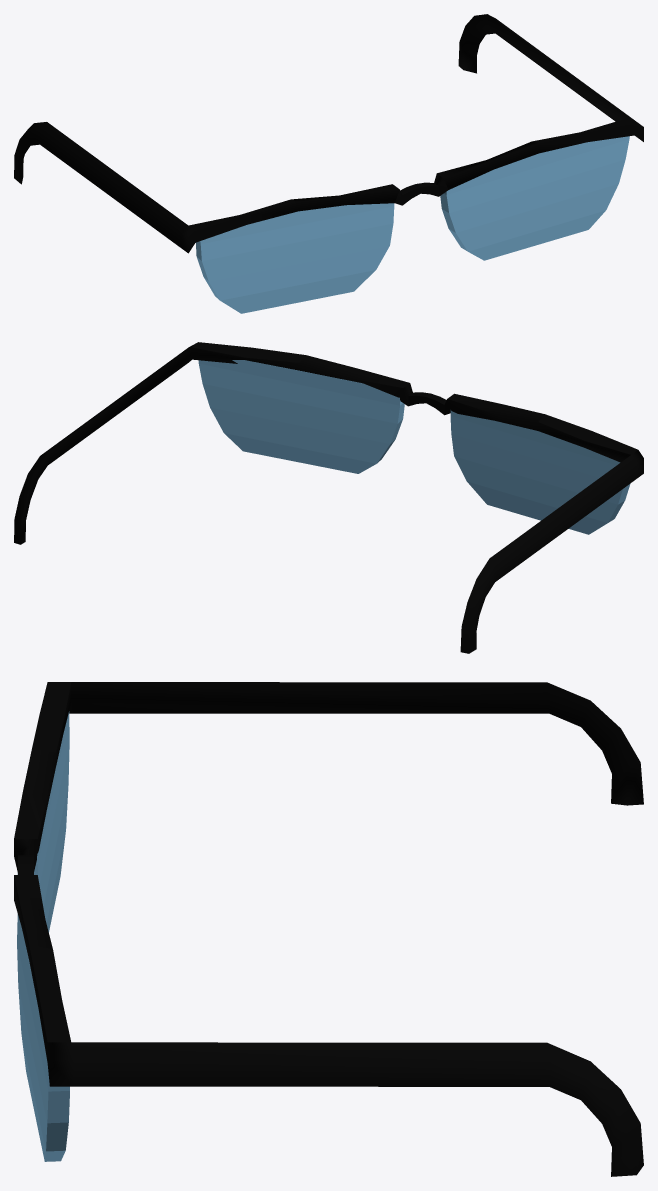
File: GAFAS_xABI.fbx
3 renders of one model, top to bottom at view 1: azimuth 30°, elevation 25°; view 2: azimuth 150°, elevation 25°; view 3: azimuth 270°, elevation 25°, orthographic. The views are drawn at different scales.
Parts seen in each view (by area): view 1: Cube, Cube.002, Cube.001; view 2: Cube.002, Cube.001, Cube; view 3: Cube.002, Cube.001, Cube.
Boxes of the visible parts, x1,y1,x2,y2 form: Cube: (196,203,394,313); Cube.002: (14,14,643,253); Cube.001: (440,136,629,260); Cube.002: (14,342,643,653); Cube.001: (198,360,404,473); Cube: (450,410,630,534); Cube.002: (14,682,643,1176); Cube.001: (17,914,69,1161); Cube: (17,711,69,932).
Size of the model in its own units: 40.37 by 8.68 by 28.78.
